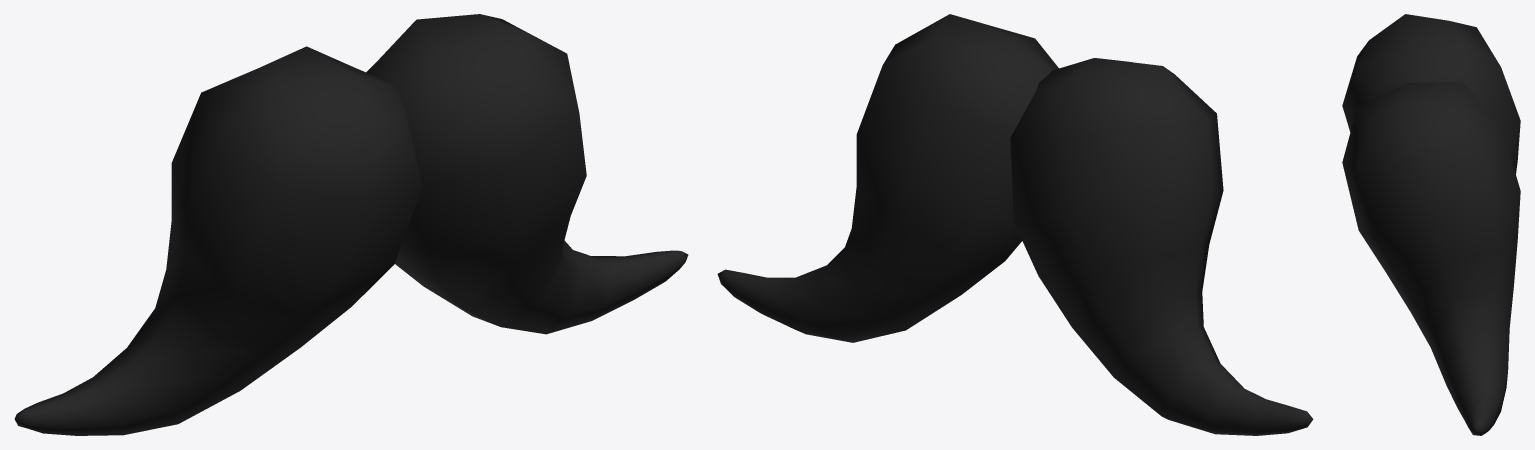
Rendered from Mustache_Black_009.glb.
The picture shows the model from 3 angles, left to right: view 1: azimuth 30°, elevation 25°; view 2: azimuth 150°, elevation 25°; view 3: azimuth 270°, elevation 25°; orthographic projection. The views are drawn at different scales.
Parts seen in each view (by area): view 1: Mustache_Black_009; view 2: Mustache_Black_009; view 3: Mustache_Black_009.
Part boxes in pixels (<box>): Mustache_Black_009: <box>14,14,688,435</box>; Mustache_Black_009: <box>717,14,1313,435</box>; Mustache_Black_009: <box>1342,14,1520,435</box>.
Bounding box in the file's own units: 0.2322 × 0.1157 × 0.0686.
1 material, 1 textured.
